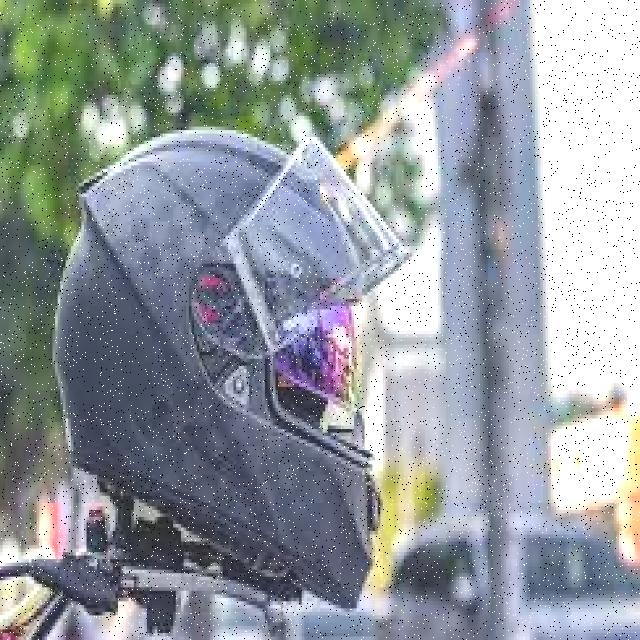with-helmet: (55, 109, 417, 626)
